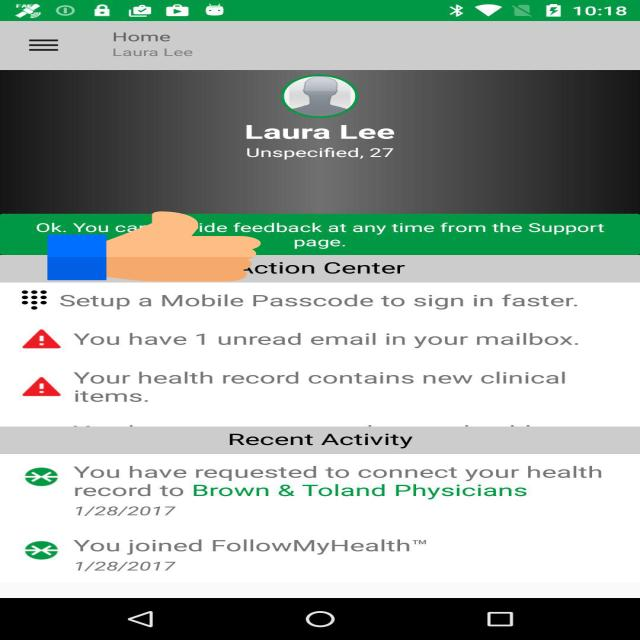privacy zuckering: (47, 210, 261, 283)
